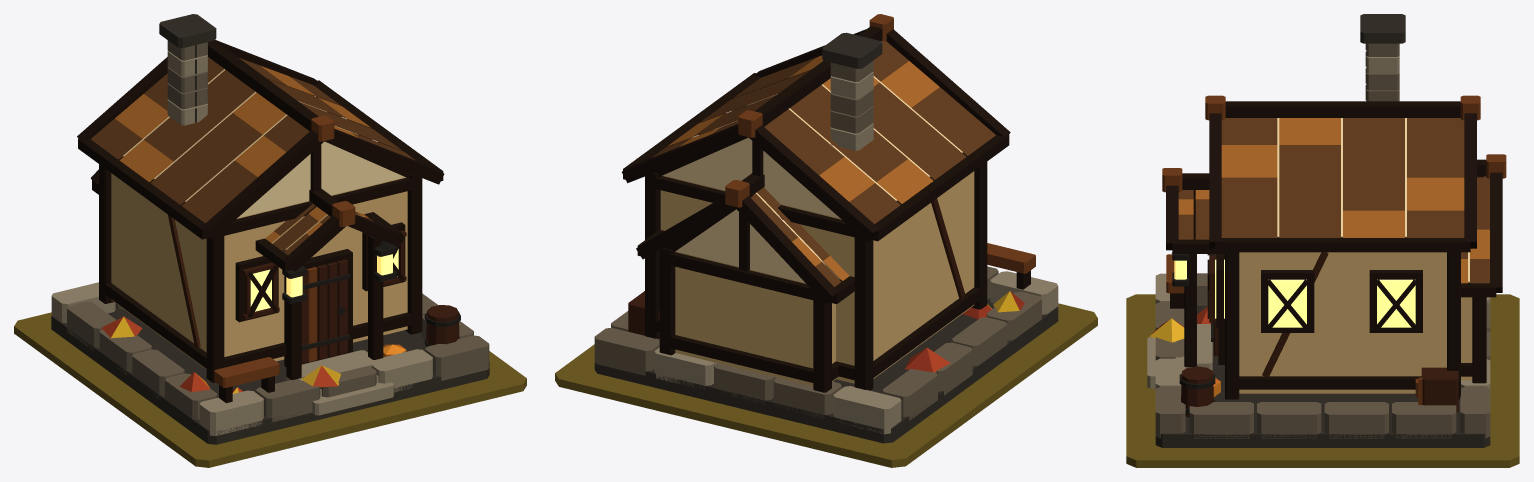
The model's file is manor_hall_t3.glb.
The picture shows the model from 3 angles, left to right: view 1: azimuth 30°, elevation 25°; view 2: azimuth 150°, elevation 25°; view 3: azimuth 270°, elevation 25°; orthographic projection. The views are drawn at different scales.
Visible parts, largest first — view 1: MMR | hall | T03 Architecture.001, MMR | hall | Tier 03 Ground.001, MMR | hall | T03 Autumn Dressing.001; view 2: MMR | hall | T03 Architecture.001, MMR | hall | Tier 03 Ground.001, MMR | hall | T03 Autumn Dressing.001; view 3: MMR | hall | T03 Architecture.001, MMR | hall | Tier 03 Ground.001, MMR | hall | T03 Autumn Dressing.001.
Part boxes in pixels (x1,y1,x2,y2): MMR | hall | T03 Architecture.001: (51, 14, 489, 444); MMR | hall | Tier 03 Ground.001: (14, 312, 526, 467); MMR | hall | T03 Autumn Dressing.001: (101, 316, 406, 393); MMR | hall | T03 Architecture.001: (594, 14, 1058, 443); MMR | hall | Tier 03 Ground.001: (555, 303, 1097, 467); MMR | hall | T03 Autumn Dressing.001: (905, 291, 1024, 372); MMR | hall | T03 Architecture.001: (1147, 14, 1506, 447); MMR | hall | Tier 03 Ground.001: (1126, 294, 1519, 467); MMR | hall | T03 Autumn Dressing.001: (1149, 284, 1220, 396).
Bounding box in the file's own units: 2.35 × 2.2 × 2.35.
Materials: 2 (1 with a texture image).
